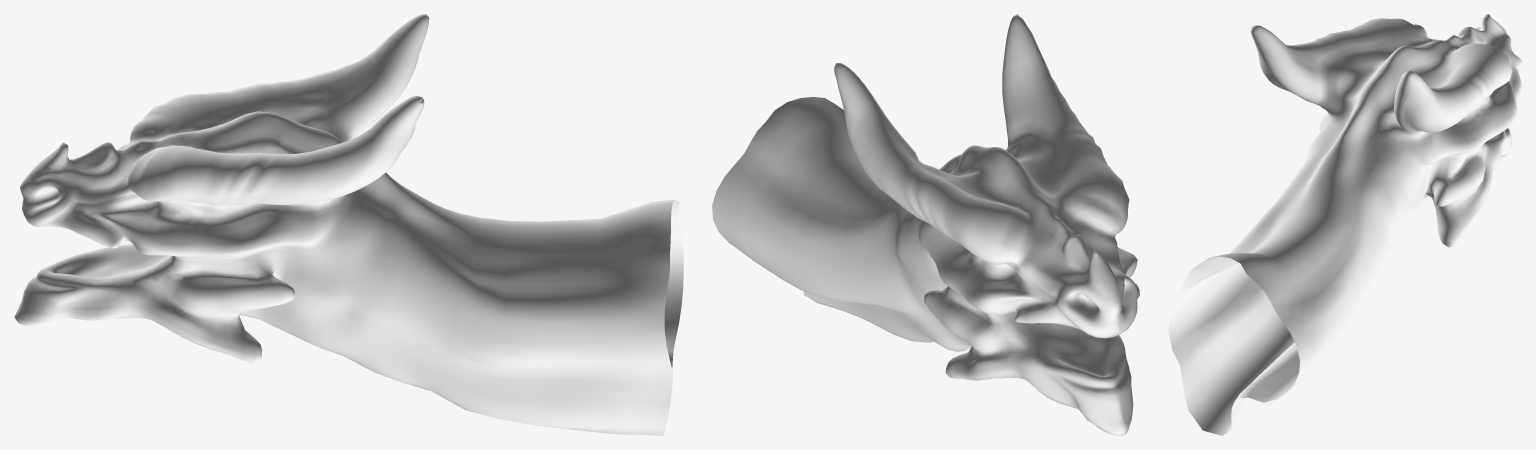
File: Cabeza4.obj
3 renders of one model, left to right at view 1: azimuth 30°, elevation 25°; view 2: azimuth 150°, elevation 25°; view 3: azimuth 270°, elevation 25°, orthographic. The views are drawn at different scales.
Visible parts, largest first — view 1: Cabeza4; view 2: Cabeza4; view 3: Cabeza4.
Boxes of the visible parts, x1,y1,x2,y2 form: Cabeza4: (14,14,683,435); Cabeza4: (712,14,1139,435); Cabeza4: (1168,14,1521,435).
Bounding box in the file's own units: 2.74 × 1.76 × 1.79.
1 material, 1 textured.
